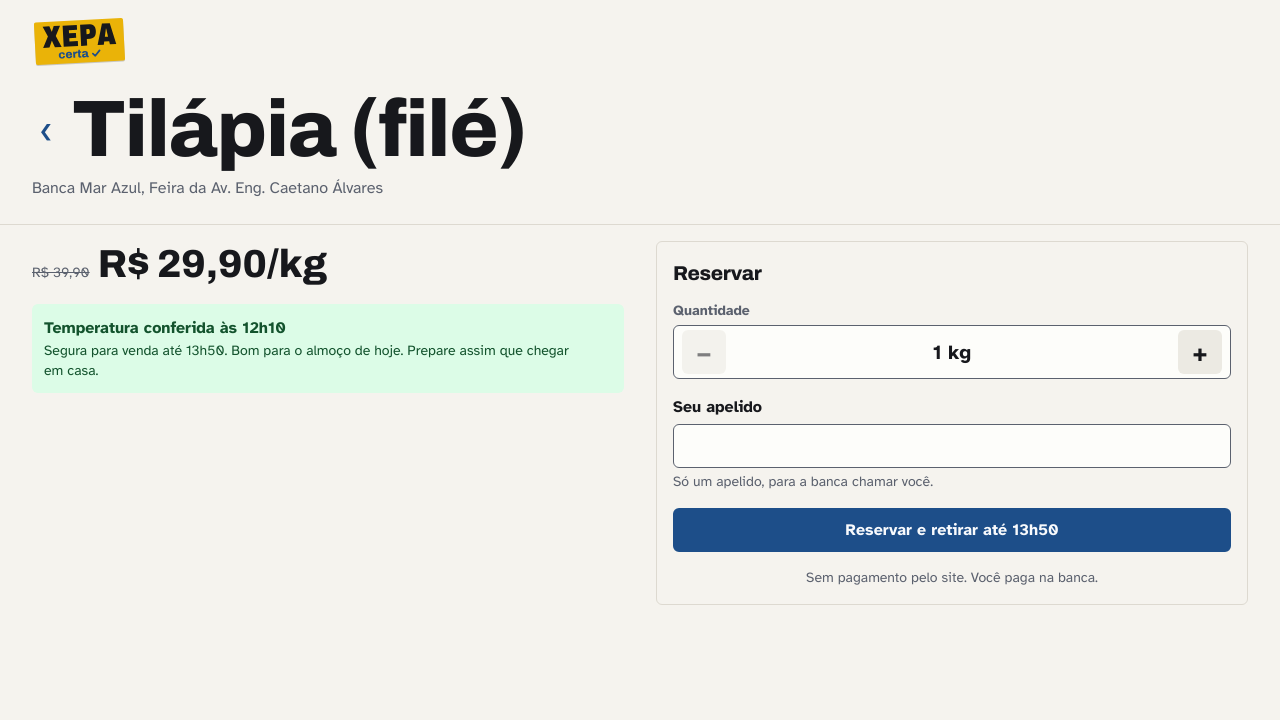
Test case: Detalhe da oferta › erro de validação aparece no campo
Click the button "Reservar e retirar até 13h50": {"x": 952, "y": 530} [673,508,1231,552]
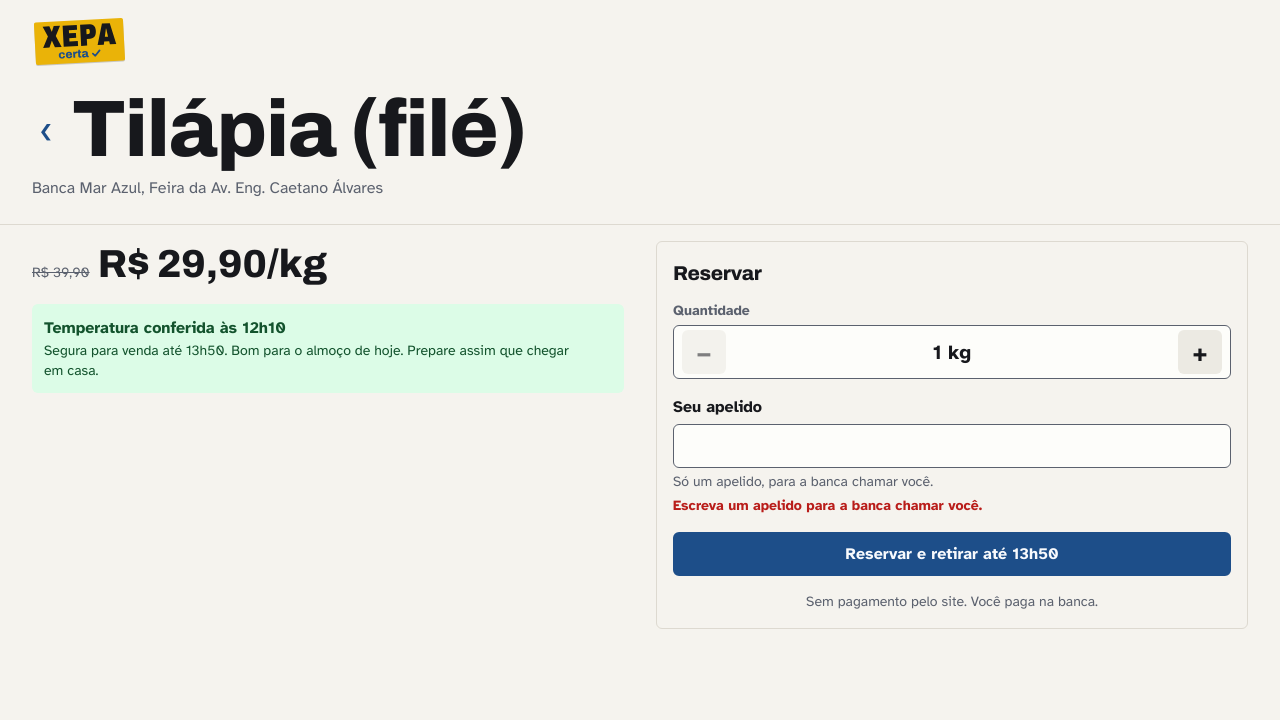
Check: the text "Escreva um apelido para a banca chamar você." is shown, box [673,497,982,514]
